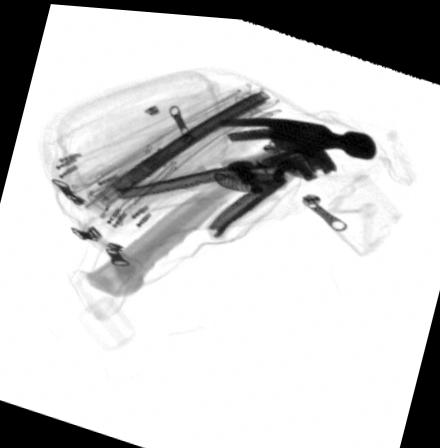Hammer: (82, 111, 376, 295)
Pliers: (111, 126, 338, 233)
